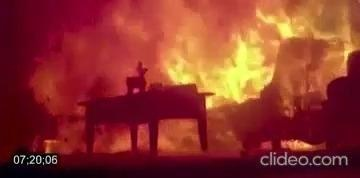fire: (5, 0, 360, 148)
